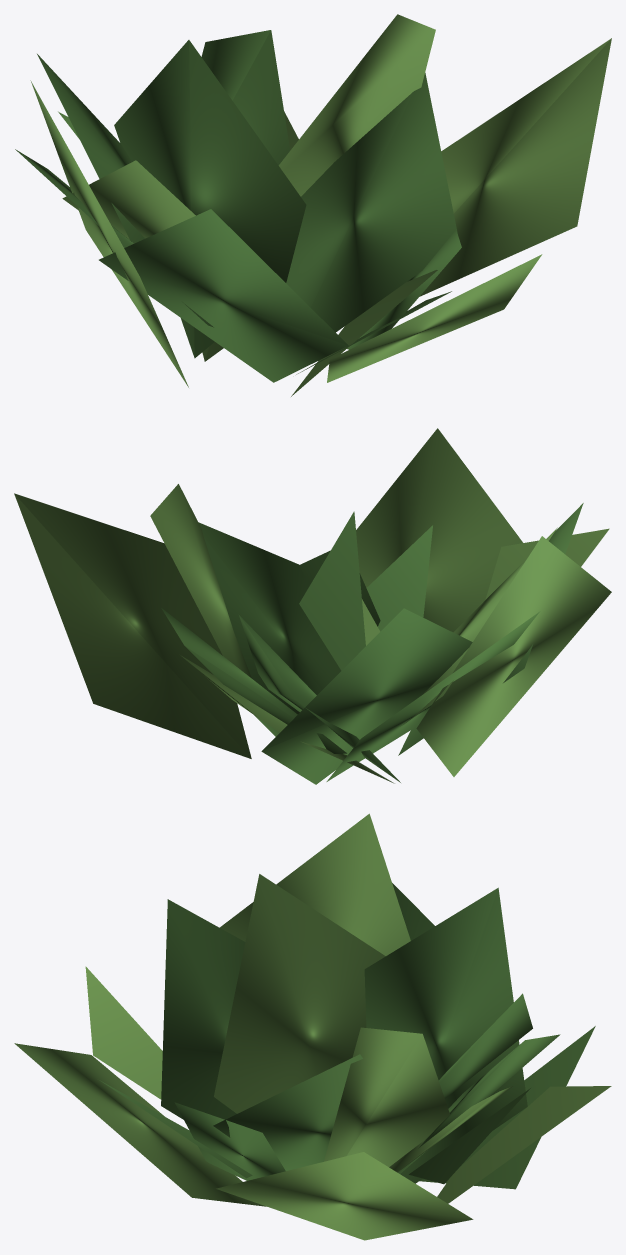
File: shore_gc_sea_rocket_c_lod2.glb
3 renders of one model, top to bottom at view 1: azimuth 30°, elevation 25°; view 2: azimuth 150°, elevation 25°; view 3: azimuth 270°, elevation 25°, orthographic. The views are drawn at different scales.
Parts seen in each view (by area): view 1: shore_gc_sea_rocket_c.001; view 2: shore_gc_sea_rocket_c.001; view 3: shore_gc_sea_rocket_c.001.
Part boxes in pixels (left/top/right/bottom): shore_gc_sea_rocket_c.001: left=15, top=14, right=611, bottom=396; shore_gc_sea_rocket_c.001: left=14, top=428, right=611, bottom=784; shore_gc_sea_rocket_c.001: left=14, top=813, right=611, bottom=1240.
Bounding box in the file's own units: 2.21 × 1.17 × 2.19.
